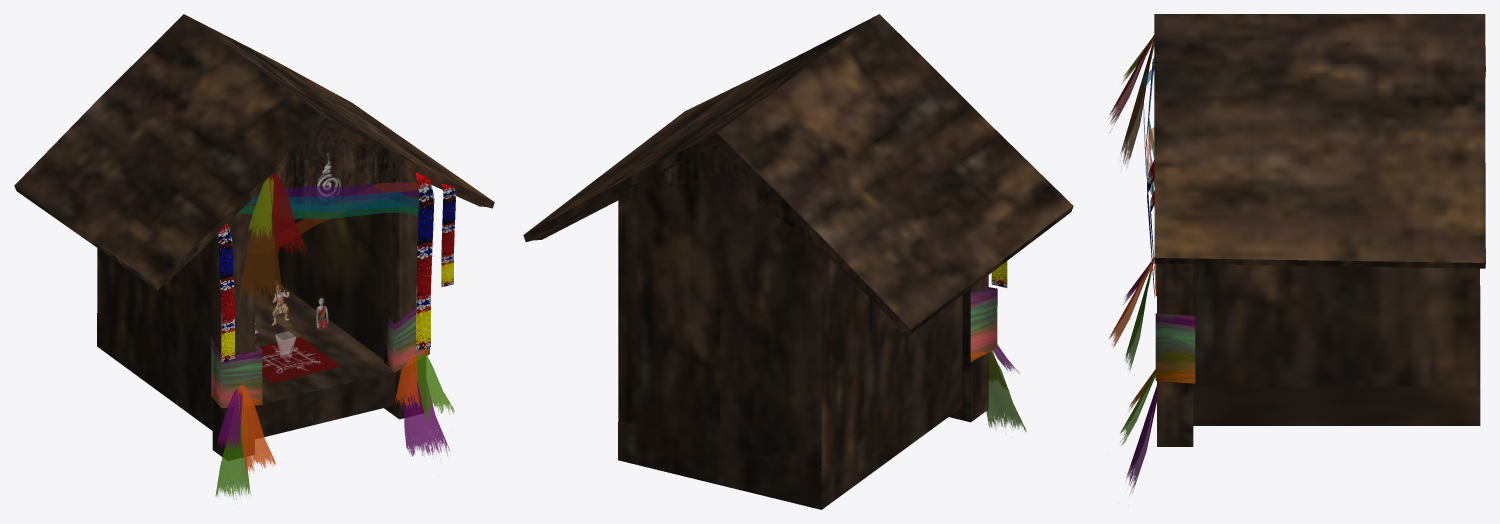
The model's file is oldSpirithouse.glb.
3 views of the same model, side by side, from view 1: azimuth 30°, elevation 25°; view 2: azimuth 150°, elevation 25°; view 3: azimuth 270°, elevation 25° (orthographic). The views are drawn at different scales.
Visible parts, largest first — view 1: defaultMaterial.028, defaultMaterial.024, defaultMaterial.007, defaultMaterial.015, defaultMaterial.009, defaultMaterial.001, defaultMaterial.012, defaultMaterial.019, defaultMaterial.020, defaultMaterial.018, defaultMaterial.013, defaultMaterial.016 (+5 smaller); view 2: defaultMaterial.028, defaultMaterial.007, defaultMaterial.012; view 3: defaultMaterial.028, defaultMaterial.007, defaultMaterial.015, defaultMaterial.009, defaultMaterial.016, defaultMaterial.013, defaultMaterial.012, defaultMaterial.024, defaultMaterial.010.
Part boxes in pixels (x1=…): defaultMaterial.028: x1=14, y1=14, x2=494, y2=460; defaultMaterial.024: x1=218, y1=172, x2=455, y2=362; defaultMaterial.007: x1=211, y1=307, x2=429, y2=407; defaultMaterial.015: x1=238, y1=178, x2=282, y2=310; defaultMaterial.009: x1=403, y1=371, x2=449, y2=456; defaultMaterial.001: x1=259, y1=337, x2=340, y2=383; defaultMaterial.012: x1=215, y1=399, x2=250, y2=499; defaultMaterial.019: x1=247, y1=191, x2=418, y2=211; defaultMaterial.020: x1=256, y1=181, x2=419, y2=200; defaultMaterial.018: x1=238, y1=198, x2=418, y2=219; defaultMaterial.013: x1=237, y1=385, x2=275, y2=473; defaultMaterial.016: x1=269, y1=173, x2=310, y2=259; defaultMaterial.028: x1=523, y1=14, x2=1073, y2=509; defaultMaterial.007: x1=970, y1=287, x2=997, y2=361; defaultMaterial.012: x1=986, y1=351, x2=1026, y2=431; defaultMaterial.028: x1=1154, y1=14, x2=1485, y2=446; defaultMaterial.007: x1=1155, y1=263, x2=1195, y2=383; defaultMaterial.015: x1=1120, y1=40, x2=1154, y2=167; defaultMaterial.009: x1=1126, y1=386, x2=1156, y2=493; defaultMaterial.016: x1=1109, y1=35, x2=1154, y2=132; defaultMaterial.013: x1=1109, y1=257, x2=1154, y2=347; defaultMaterial.012: x1=1125, y1=267, x2=1152, y2=370; defaultMaterial.024: x1=1145, y1=58, x2=1154, y2=297; defaultMaterial.010: x1=1120, y1=370, x2=1155, y2=444.
Size of the model in its own units: 0.6 by 0.6359 by 0.5031.
24 materials, 19 textured.
